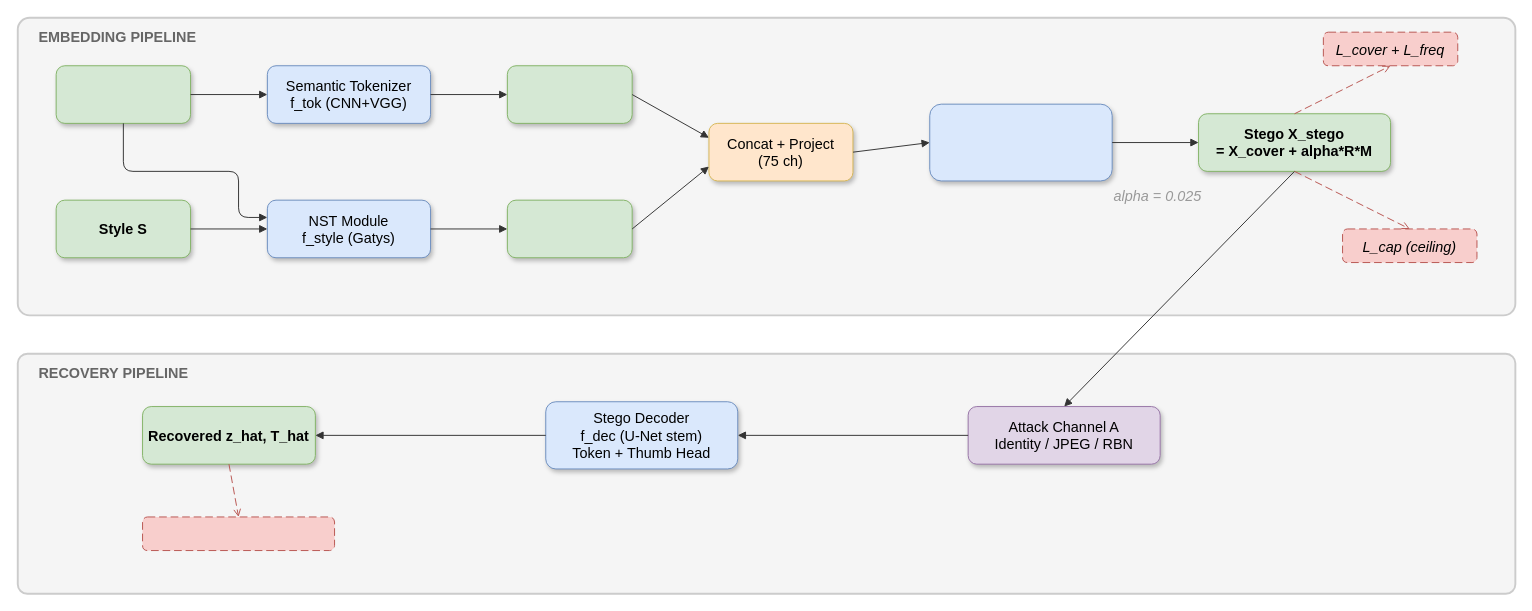
This 1532x611 diagram has some shape labels left out. Each missing label, with the centre of its shape:
Content C: point 123,95
Cover X_cover: point 570,229
L_rev + L_robust + L_serial: point 238,533
Stego Encoder f_enc (ResStack x3) + Mask Head: point 1021,143
Token z Thumb T: point 570,95
